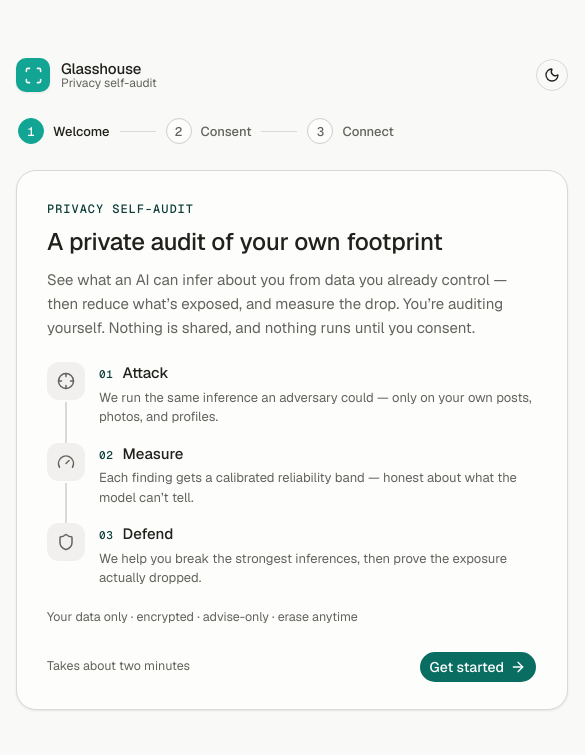
Test: OnboardingWizard › renders the receipt from what was RECORDED, not from the checkboxes
Click the button "Get started": (478, 667) top-left (419, 651), bottom-right (537, 683)
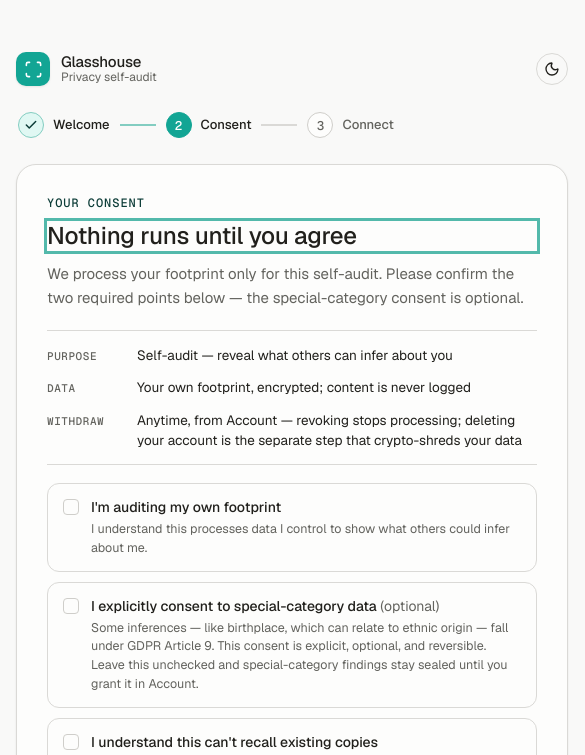
Click the checkbox named "auditing my own footprint" next to "I'm auditing my own footprint": (71, 507) top-left (63, 499), bottom-right (79, 515)
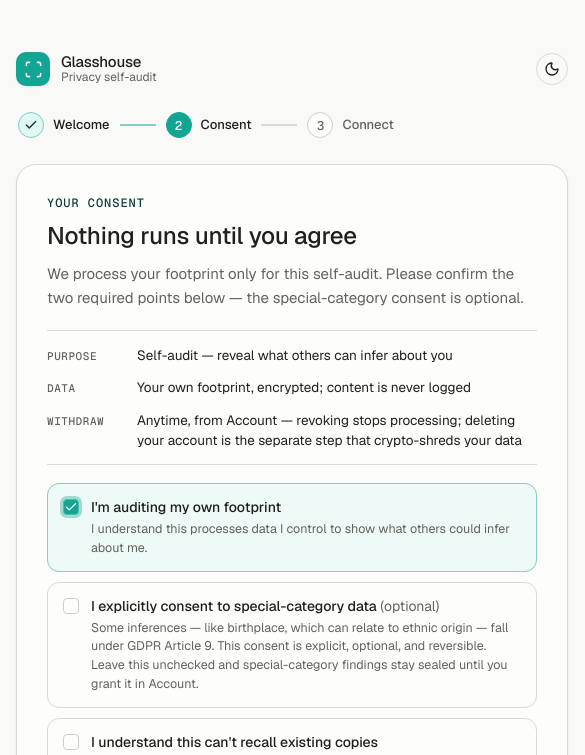
Click the 3rd checkbox named "can't recall existing copies": (71, 742) top-left (63, 734), bottom-right (79, 750)
(page scrolled)
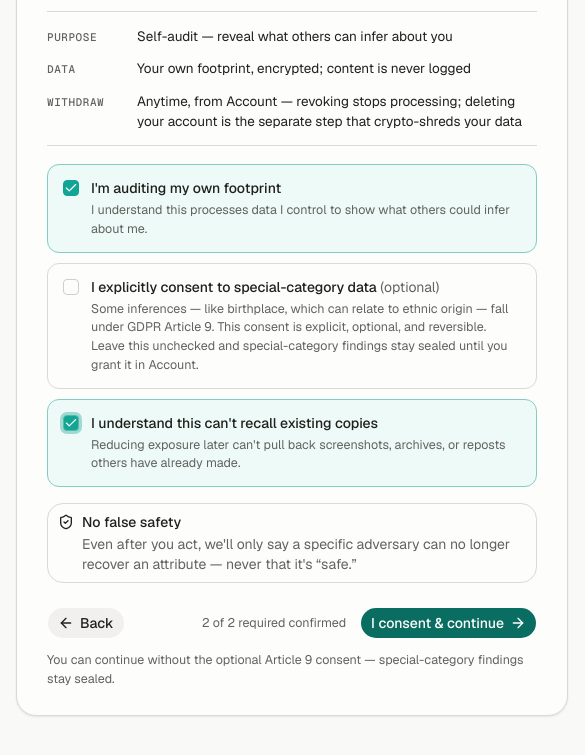
Click the button "I consent & continue": (449, 623) top-left (360, 607), bottom-right (537, 639)
(page scrolled)
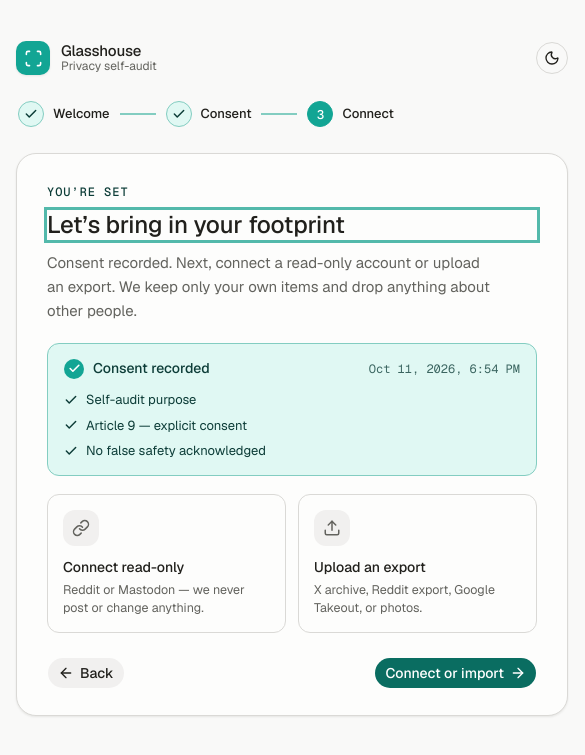
Now the list item "Article 9 — explicit consent" is shown, box top-left (64, 416), bottom-right (247, 434)
Now the text "stay sealed" is gone
